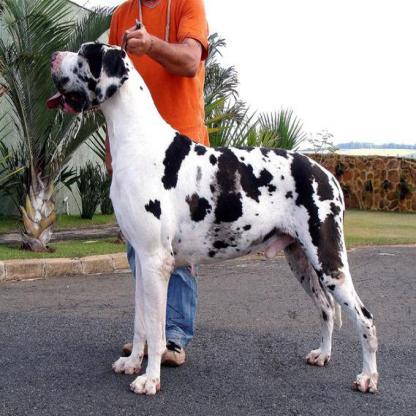Great_Dane: (48, 39, 378, 394)
